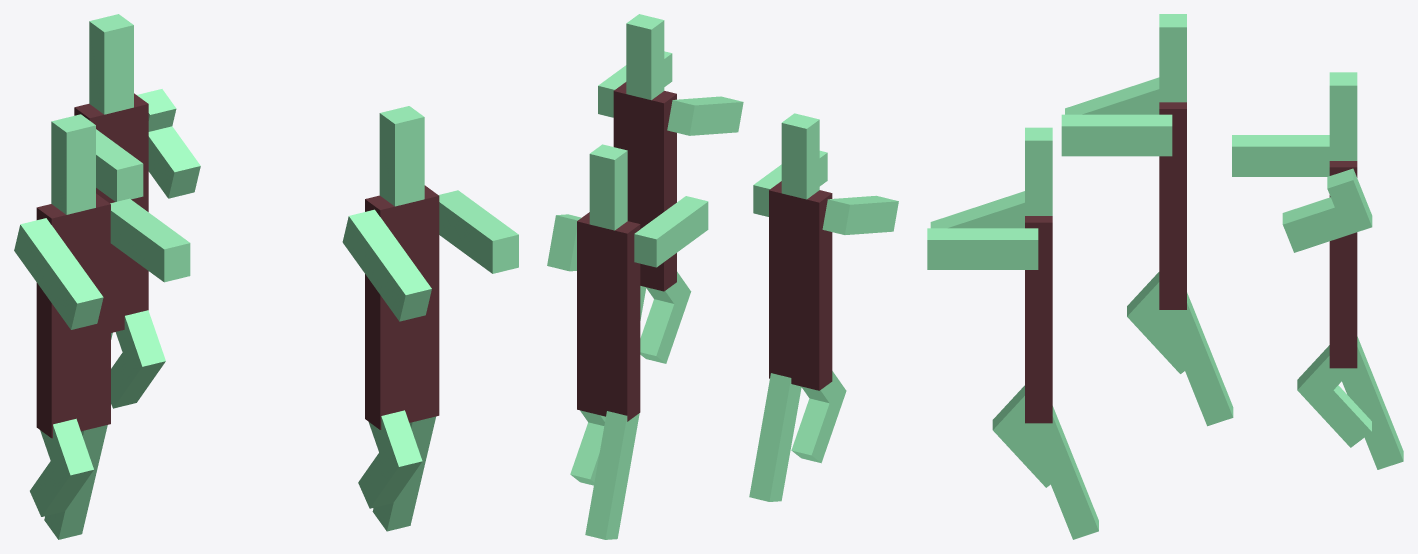
Rendered from UndeadShoot.fbx.
3 renders of one model, left to right at view 1: azimuth 30°, elevation 25°; view 2: azimuth 150°, elevation 25°; view 3: azimuth 270°, elevation 25°, orthographic. The views are drawn at different scales.
Parts seen in each view (by area): view 1: Cube.009, Cube.015, Cube.001, Cube.014, Cube.020, Cube.013, Cube.022, Cube.012, Cube.019, Cube.006, Cube.010, Cube.017 (+5 smaller); view 2: Cube.001, Cube.015, Cube.009, Cube.003, Cube.018, Cube.005, Cube.006, Cube.013, Cube.019, Cube.017, Cube.010, Cube.014 (+5 smaller); view 3: Cube.009, Cube.015, Cube.022, Cube.012, Cube.004, Cube.001, Cube.005, Cube.011, Cube.018, Cube.002, Cube.003, Cube.006 (+6 smaller).
Part boxes in pixels (x1,y1,x2,y2): Cube.009: [365, 185, 439, 429]; Cube.015: [36, 193, 110, 438]; Cube.001: [74, 93, 148, 332]; Cube.014: [342, 209, 431, 321]; Cube.020: [14, 218, 103, 329]; Cube.013: [379, 106, 424, 206]; Cube.022: [110, 198, 190, 282]; Cube.012: [438, 190, 518, 273]; Cube.019: [51, 114, 95, 214]; Cube.006: [89, 14, 133, 114]; Cube.010: [358, 410, 422, 508]; Cube.017: [30, 418, 93, 516]; Cube.001: [577, 212, 640, 421]; Cube.015: [769, 181, 832, 390]; Cube.009: [613, 82, 676, 291]; Cube.003: [585, 411, 639, 539]; Cube.018: [749, 373, 801, 501]; Cube.005: [634, 196, 708, 267]; Cube.006: [589, 144, 627, 230]; Cube.013: [626, 14, 664, 100]; Cube.019: [781, 113, 819, 199]; Cube.017: [791, 371, 846, 463]; Cube.010: [640, 271, 691, 363]; Cube.014: [667, 96, 743, 135]; Cube.009: [1025, 216, 1052, 423]; Cube.015: [1159, 102, 1186, 309]; Cube.022: [1061, 114, 1172, 156]; Cube.012: [927, 228, 1038, 269]; Cube.004: [1282, 168, 1372, 252]; Cube.001: [1329, 161, 1357, 368]; Cube.005: [1232, 135, 1329, 176]; Cube.011: [1026, 406, 1098, 539]; Cube.018: [1160, 292, 1233, 426]; Cube.002: [1297, 345, 1371, 447]; Cube.003: [1342, 336, 1403, 469]; Cube.006: [1329, 72, 1357, 160].
Size of the model in its own units: 139 by 157 by 172.
